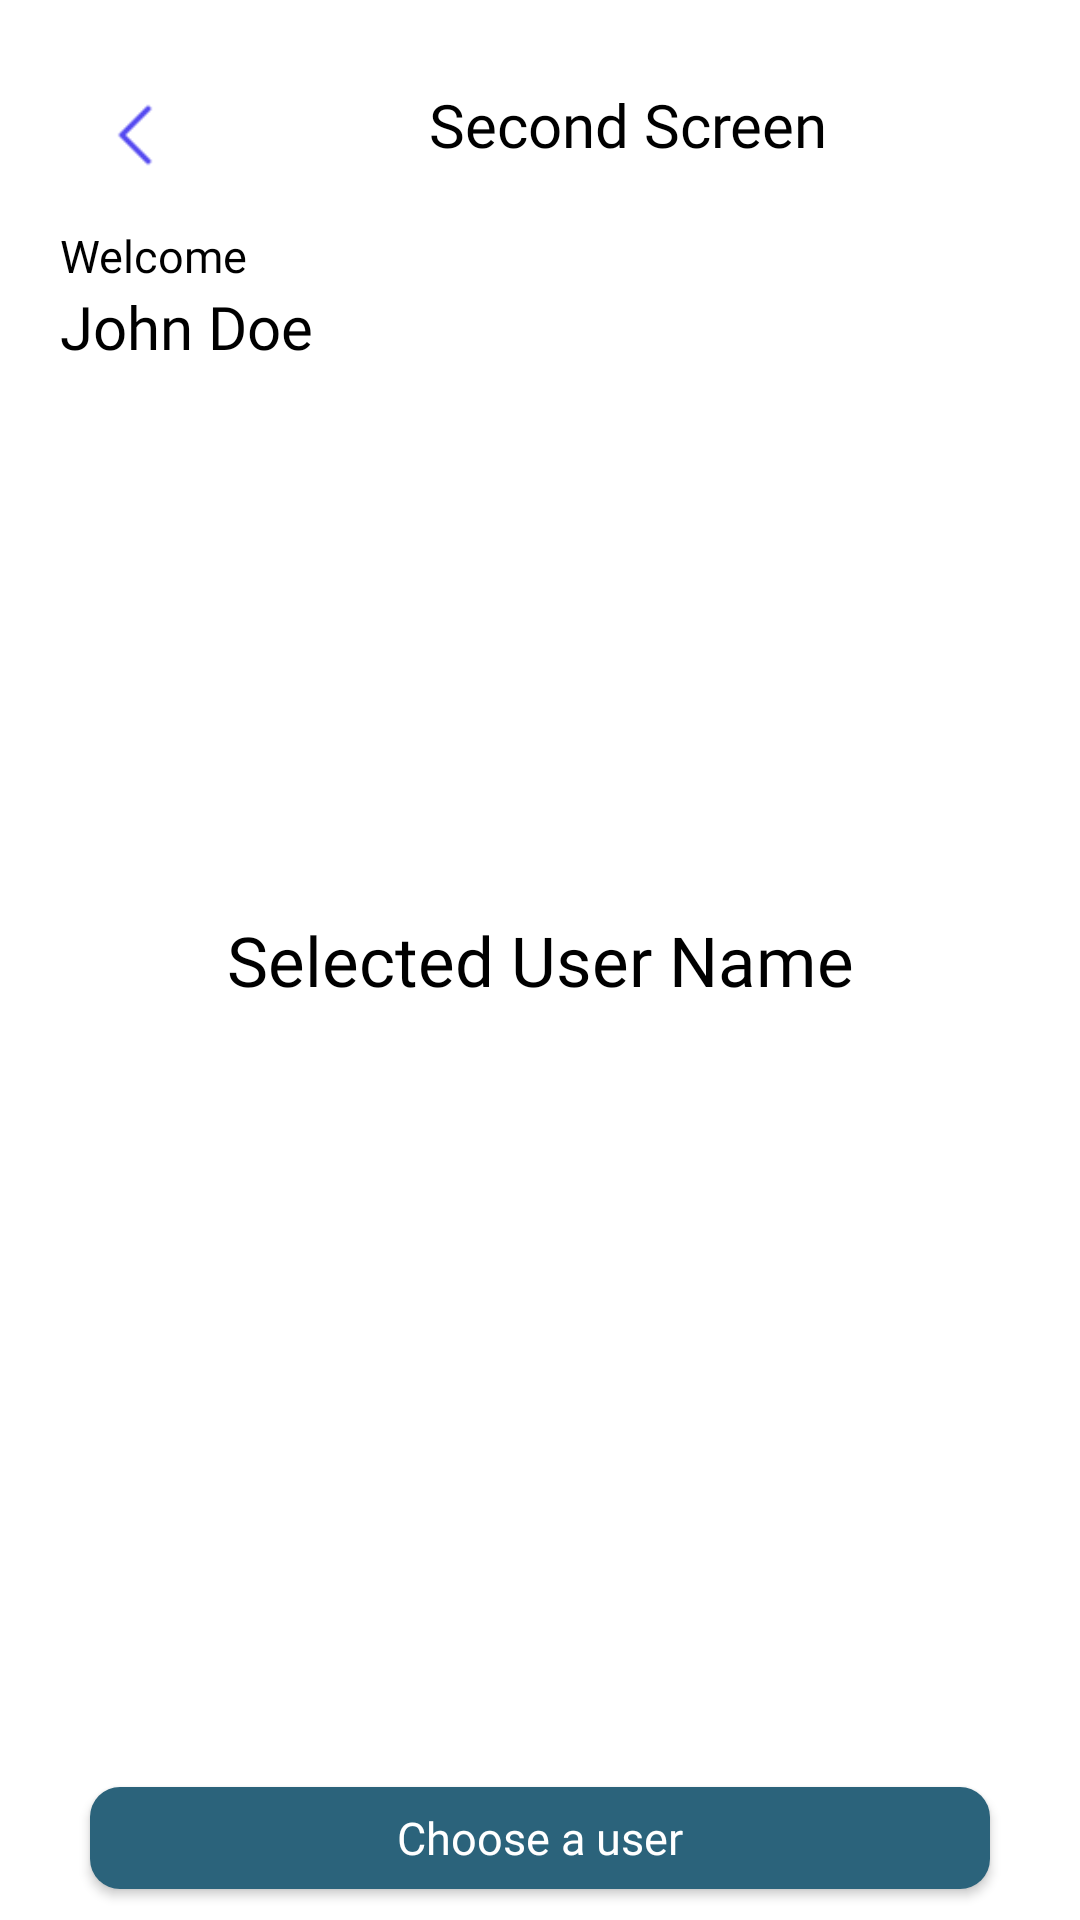

Icon bounding boxes for this 1080x1920 phone screenshot, format (x1, y1, x2, y2):
Back Button to back to First Activity: (118, 105, 152, 165)
